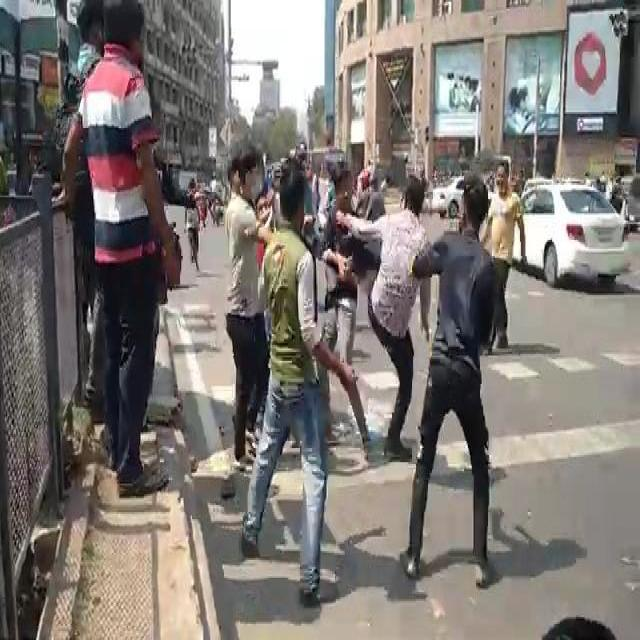fight: (214, 82, 492, 594), (54, 9, 188, 483)
